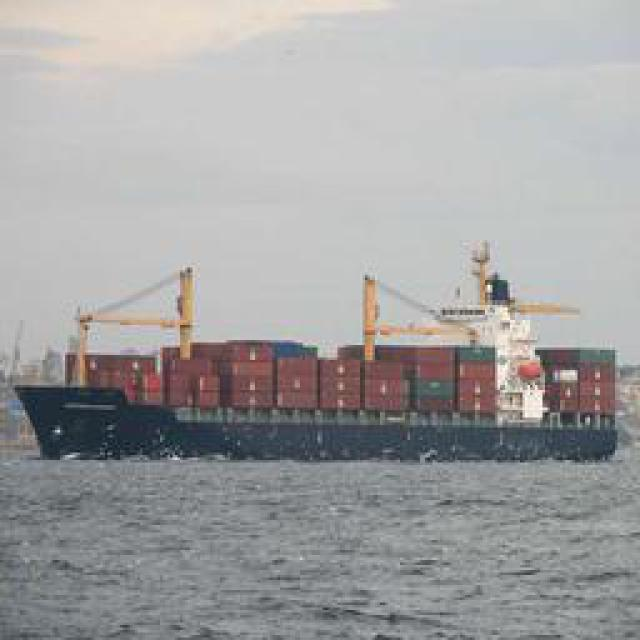Ship: (11, 276, 629, 466)
